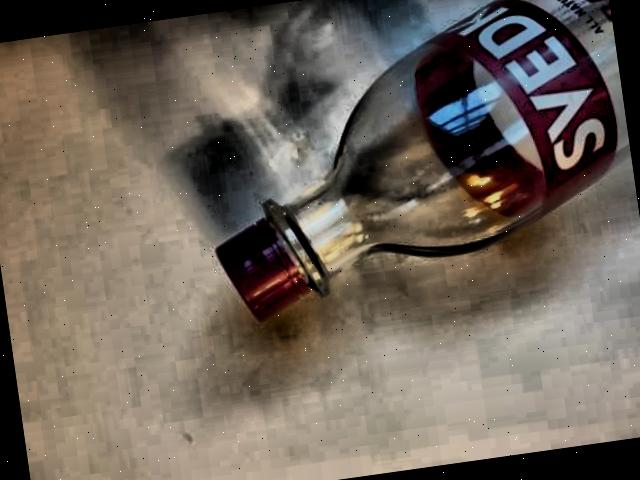Bottles: (164, 0, 640, 347)
